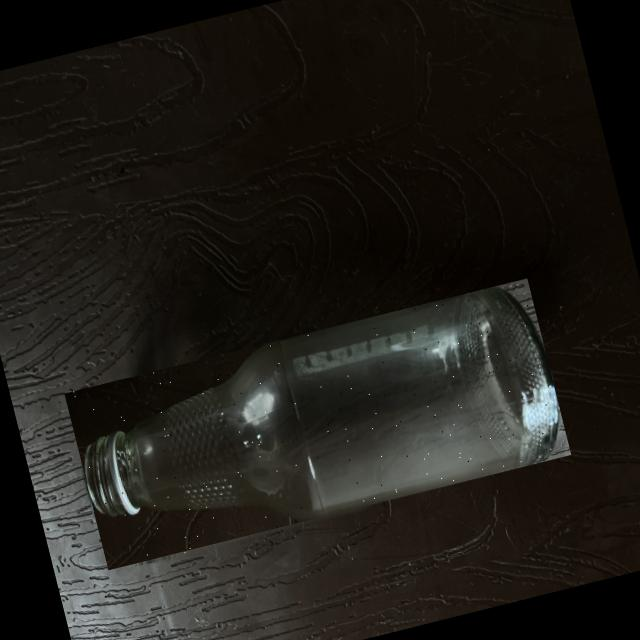Glass_Bottle: (85, 287, 558, 518)
